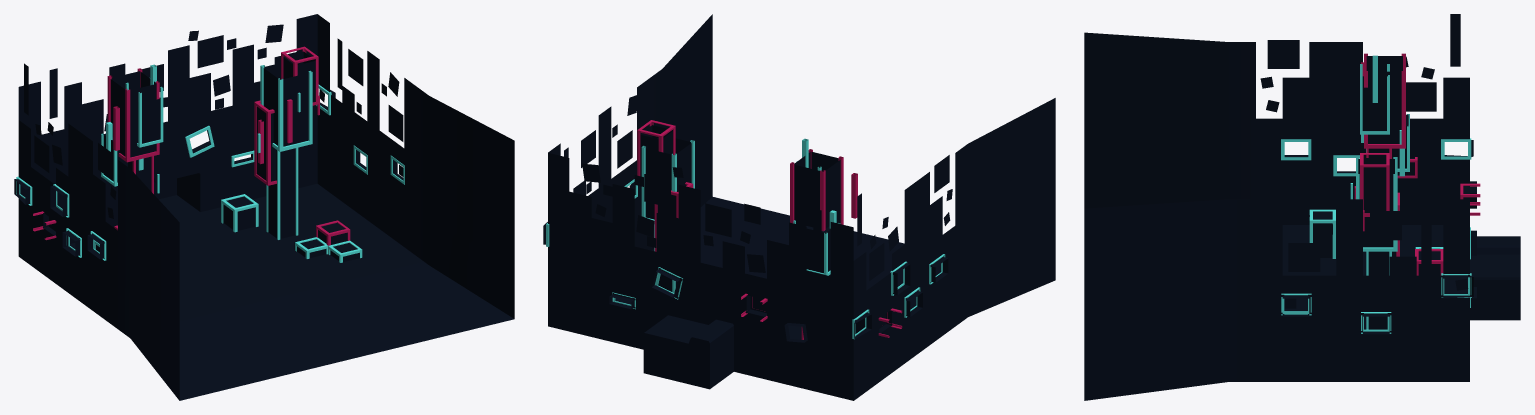
The model's file is NeuralNet.fbx.
3 renders of one model, left to right at view 1: azimuth 30°, elevation 25°; view 2: azimuth 150°, elevation 25°; view 3: azimuth 270°, elevation 25°, orthographic. The views are drawn at different scales.
Visible parts, largest first — view 1: NeuralNet; view 2: NeuralNet; view 3: NeuralNet.
Boxes of the visible parts, box(x1,y1,x2,y2) form: NeuralNet: box(14, 14, 514, 400); NeuralNet: box(543, 14, 1055, 400); NeuralNet: box(1084, 14, 1520, 400).
Size of the model in its own units: 38.94 by 23.26 by 40.79.
Materials: 1 (1 with a texture image).
